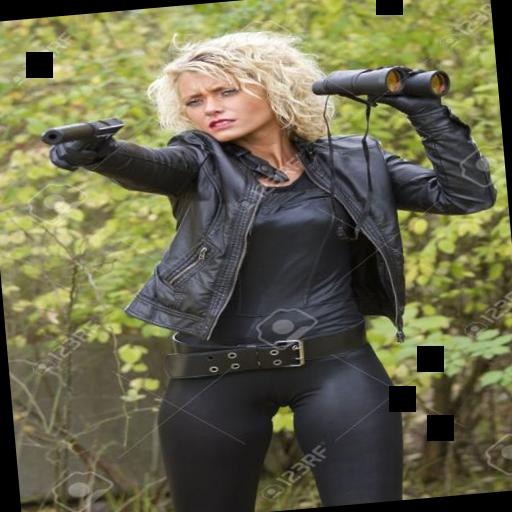Handgun: (40, 116, 124, 160)
